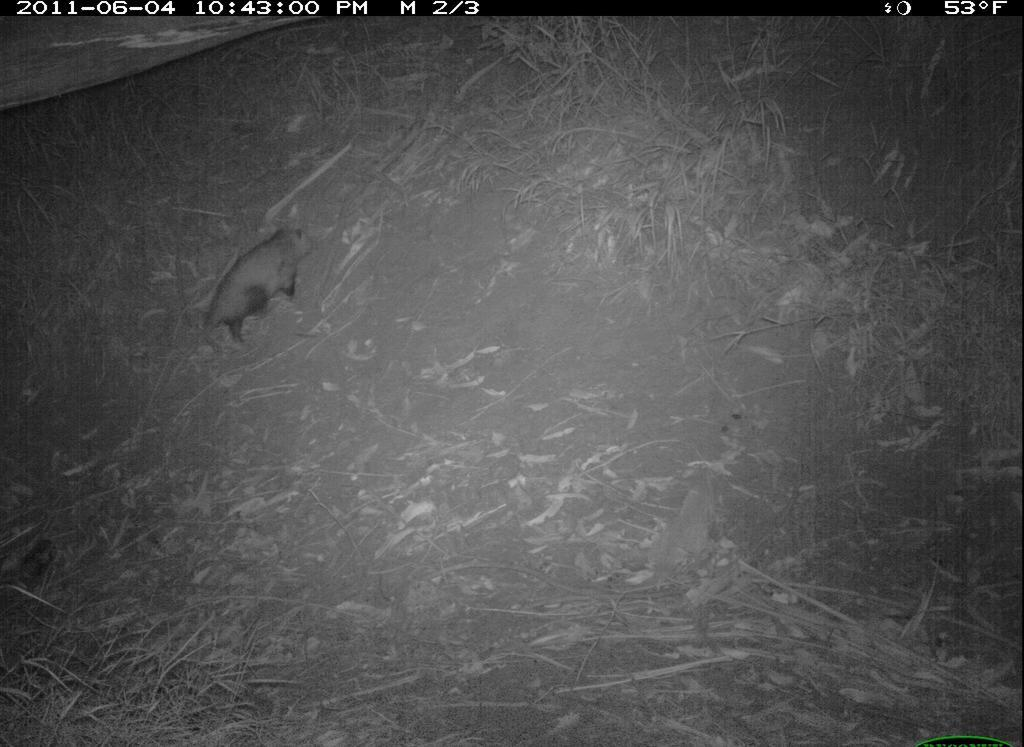opossum: (190, 216, 322, 367)
